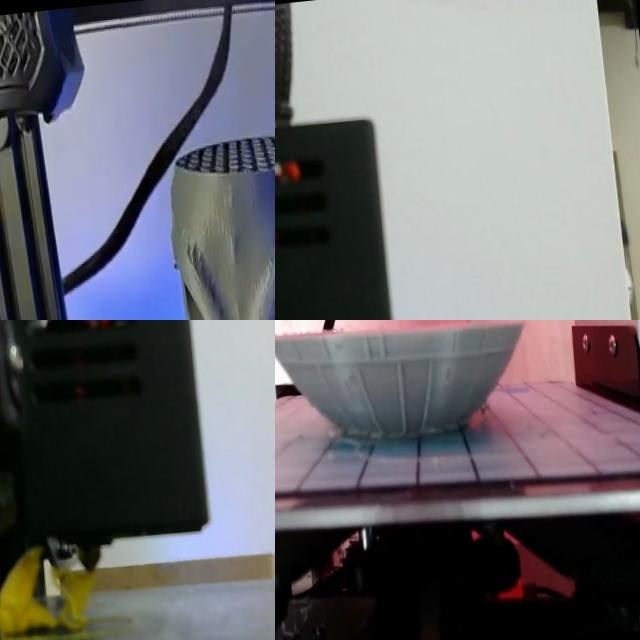spaghetti: (0, 545, 94, 638)
